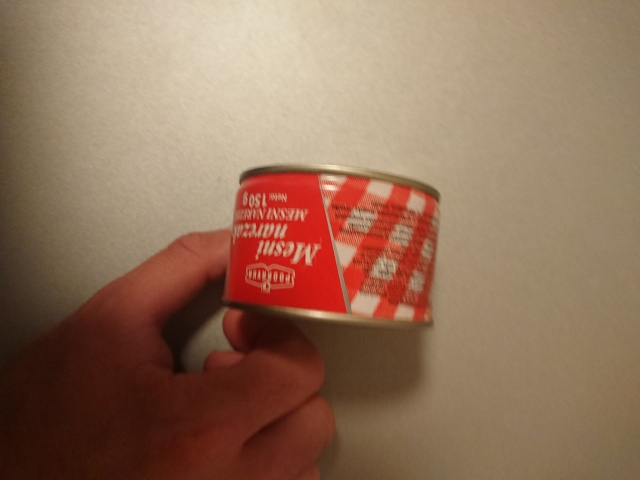Podravka Luncheon Meat 150g: (216, 159, 446, 333)
